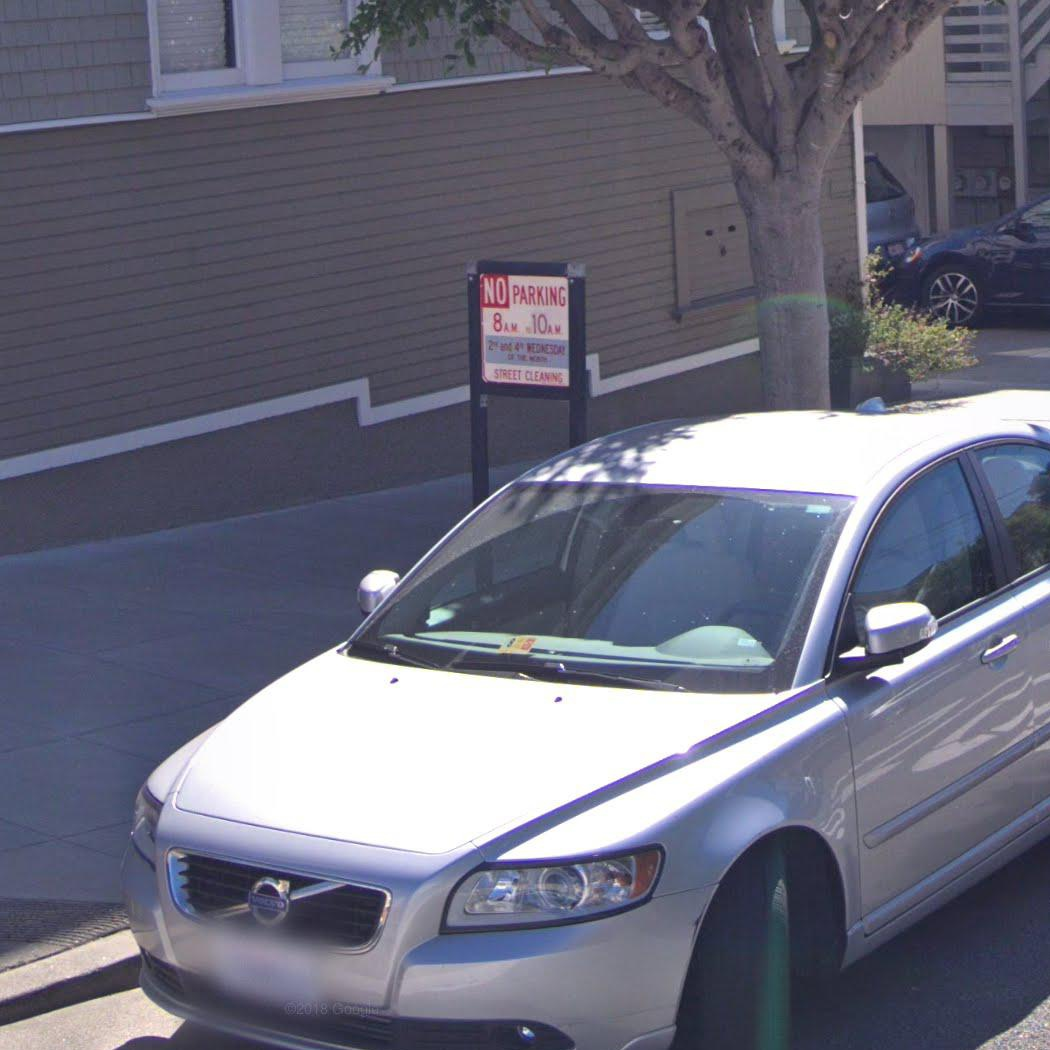No Parking: (479, 273, 572, 388)
